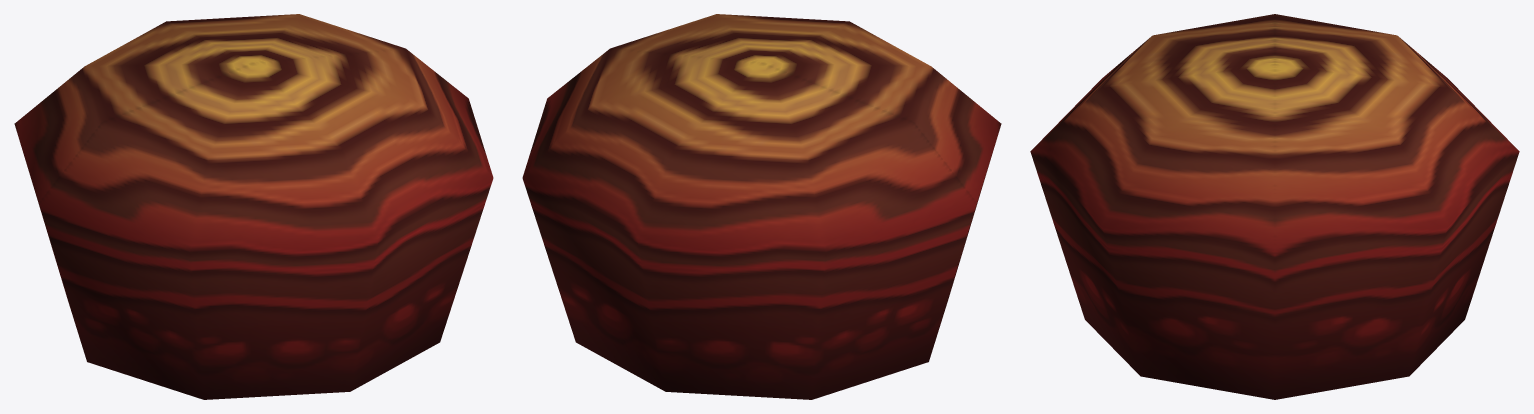
The model's file is Coral_29c.FBX.
The picture shows the model from 3 angles, left to right: view 1: azimuth 30°, elevation 25°; view 2: azimuth 150°, elevation 25°; view 3: azimuth 270°, elevation 25°; orthographic projection.
Visible parts, largest first — view 1: Coral_29c; view 2: Coral_29c; view 3: Coral_29c.
Part boxes in pixels (left/top/right/bottom): Coral_29c: left=14, top=14, right=493, bottom=399; Coral_29c: left=522, top=14, right=1001, bottom=399; Coral_29c: left=1030, top=14, right=1519, bottom=399.
Size of the model in its own units: 13.8 by 7.93 by 13.8.
